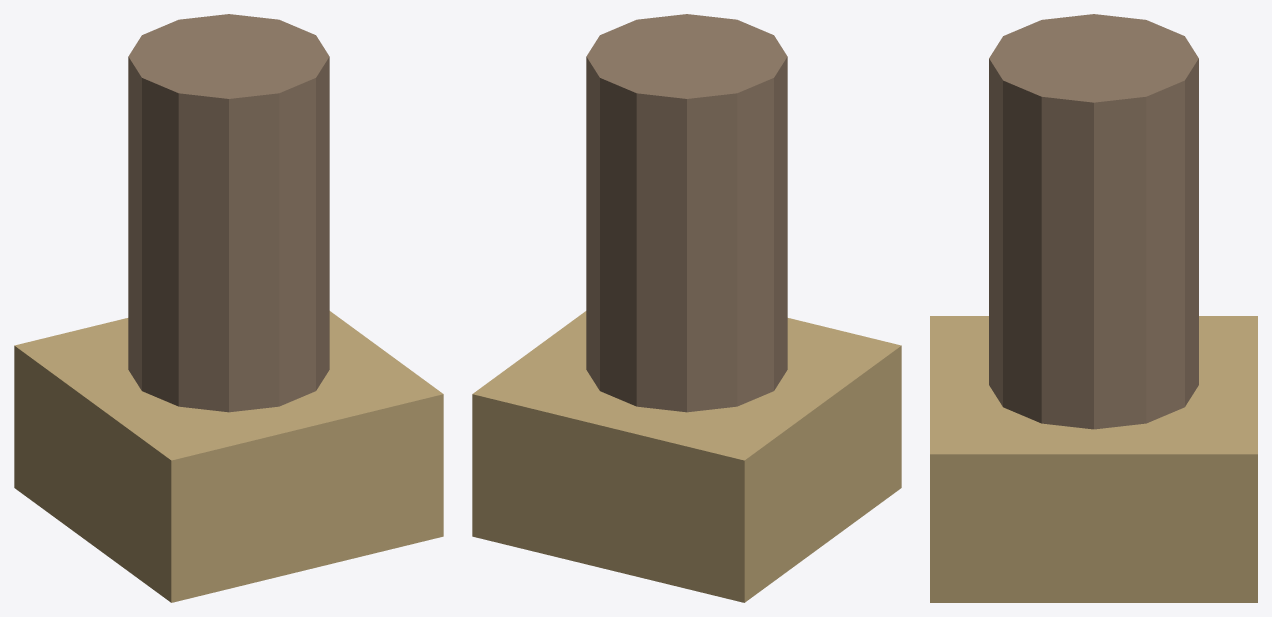
The model's file is PR-STAMP.glb.
3 renders of one model, left to right at view 1: azimuth 30°, elevation 25°; view 2: azimuth 150°, elevation 25°; view 3: azimuth 270°, elevation 25°, orthographic. The views are drawn at different scales.
Parts seen in each view (by area): view 1: seal_base, handle; view 2: seal_base, handle; view 3: handle, seal_base.
Boxes of the visible parts, x1,y1,x2,y2 form: seal_base: [14, 311, 443, 602]; handle: [128, 14, 329, 412]; seal_base: [472, 311, 901, 602]; handle: [586, 14, 787, 412]; handle: [989, 14, 1198, 429]; seal_base: [930, 316, 1257, 602].
Bounding box in the file's own units: 0.05 × 0.08 × 0.05.
